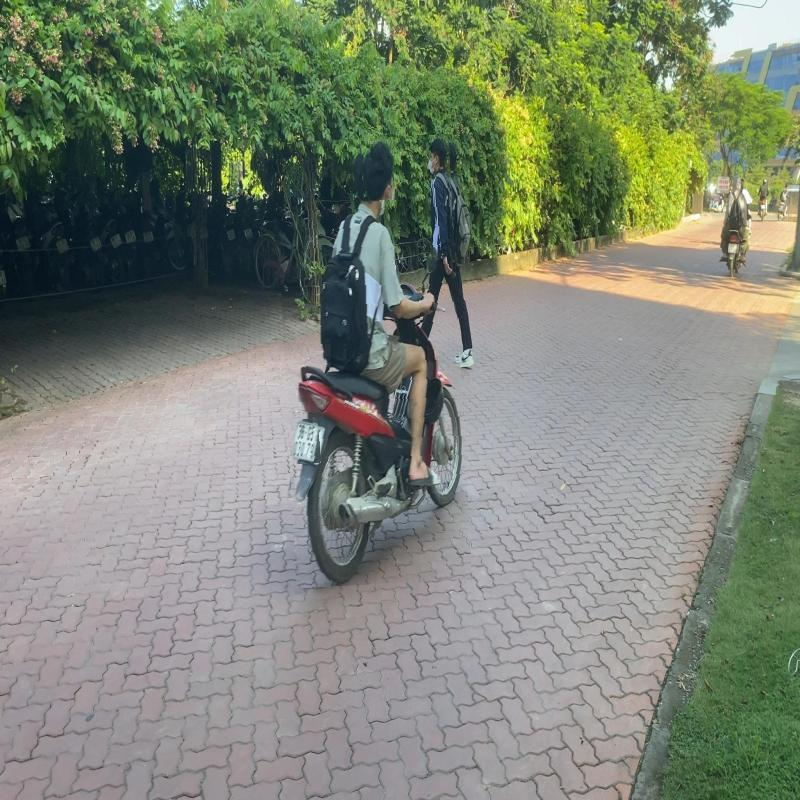licenseplate: (291, 419, 321, 464)
motorcyclist: (279, 136, 466, 586)
nohelmet: (361, 140, 395, 202)
